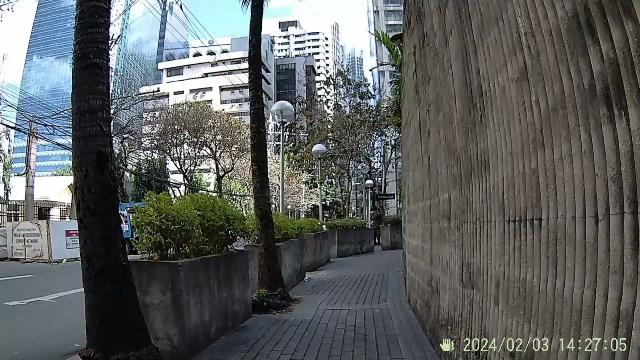lamp_post: (268, 98, 298, 210), (310, 142, 330, 218), (364, 180, 376, 217)
potted_plant: (130, 184, 270, 344), (240, 216, 304, 312), (296, 212, 340, 272)
street_sign: (374, 190, 398, 224)
tree: (51, 0, 162, 354), (233, 0, 298, 316)
